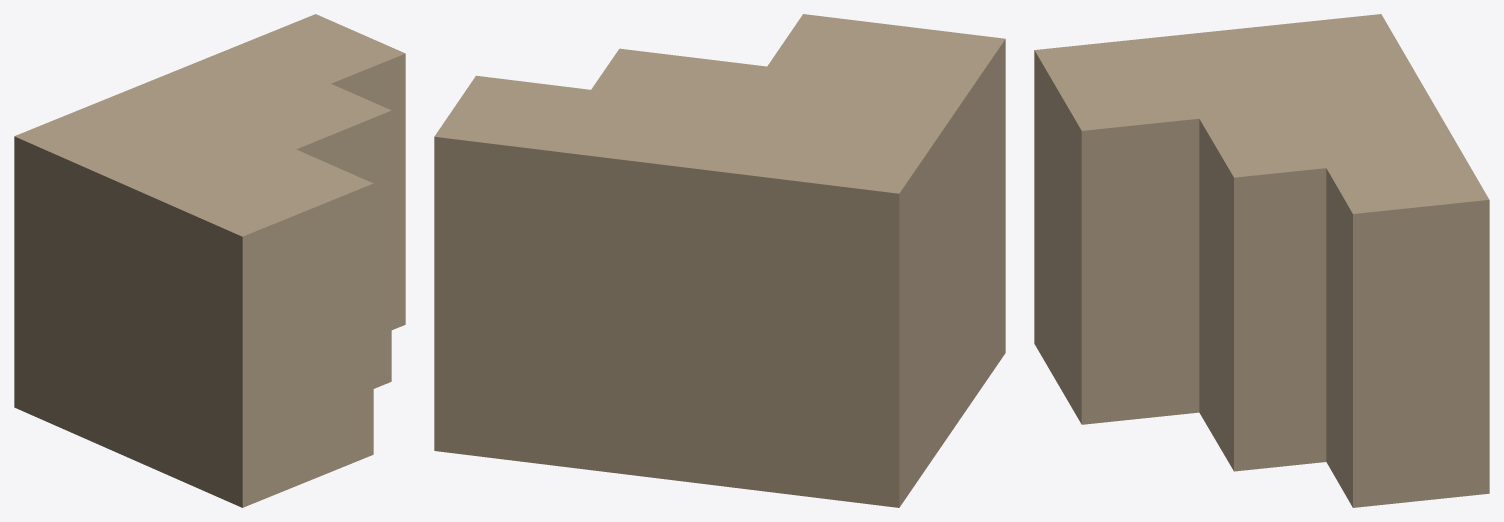
File: bld_106456279.dae
3 renders of one model, left to right at view 1: azimuth 30°, elevation 25°; view 2: azimuth 150°, elevation 25°; view 3: azimuth 270°, elevation 25°, orthographic. The views are drawn at different scales.
Parts seen in each view (by area): view 1: bld_106456279; view 2: bld_106456279; view 3: bld_106456279.
Part boxes in pixels (x1,y1,x2,y2): bld_106456279: (14,14,405,507); bld_106456279: (434,14,1005,507); bld_106456279: (1034,14,1489,507).
Bounding box in the file's own units: 11.68 × 11.23 × 8.
